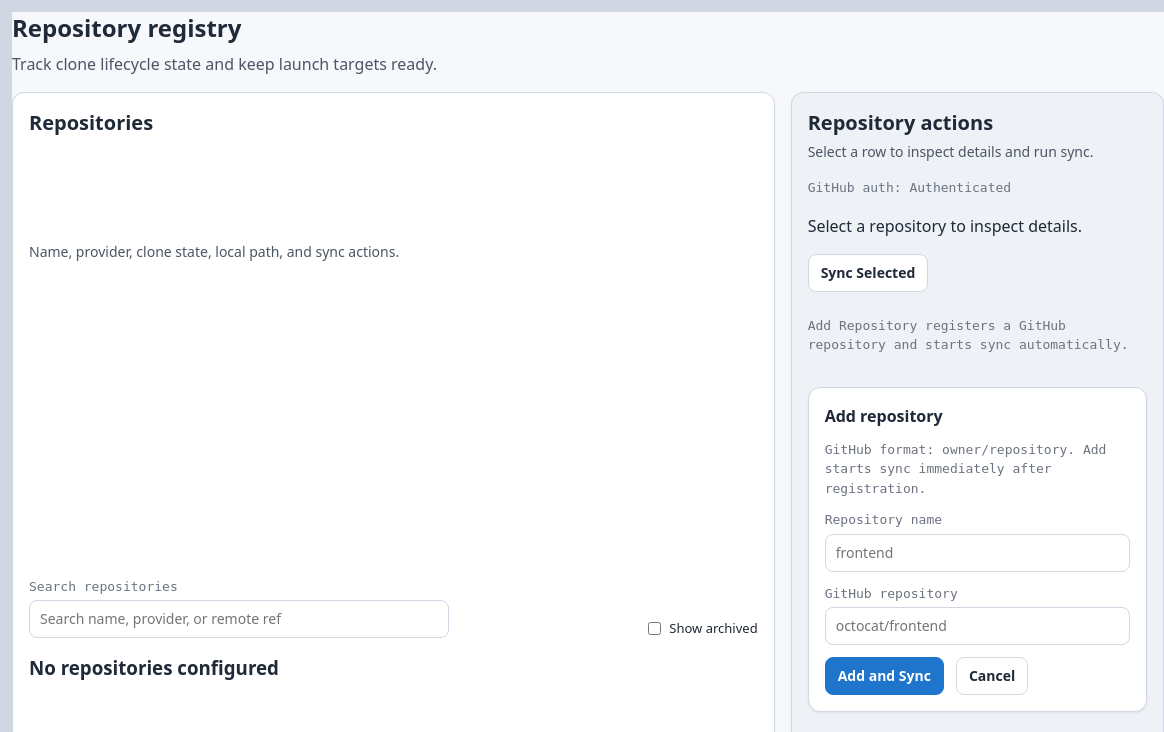
RepositoriesPage › keeps add form visible and surfaces errors when add repository fails
The width and height of the screenshot is (1164, 732).
Type "new-repo" into the field labelled "Repository name". click: (977, 552)
box: 825,534 -> 1130,572
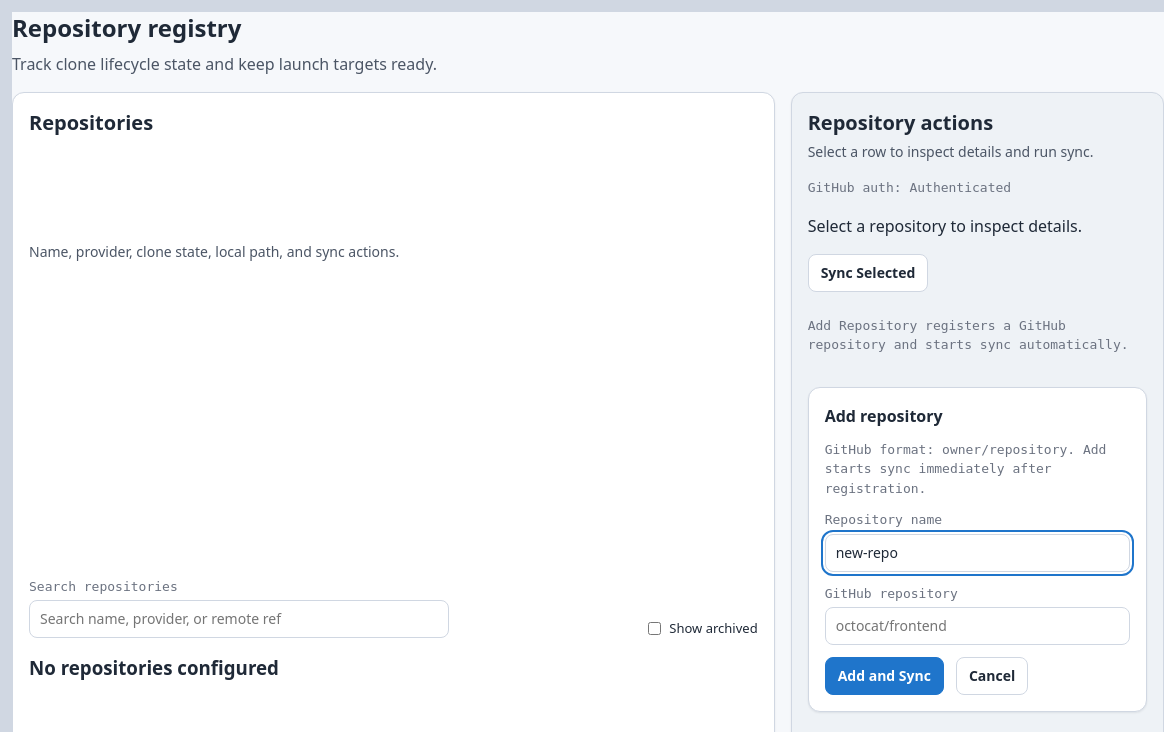
Type "octocat/new-repo" into the field labelled "GitHub repository". click: (977, 626)
box: 825,607 -> 1130,645
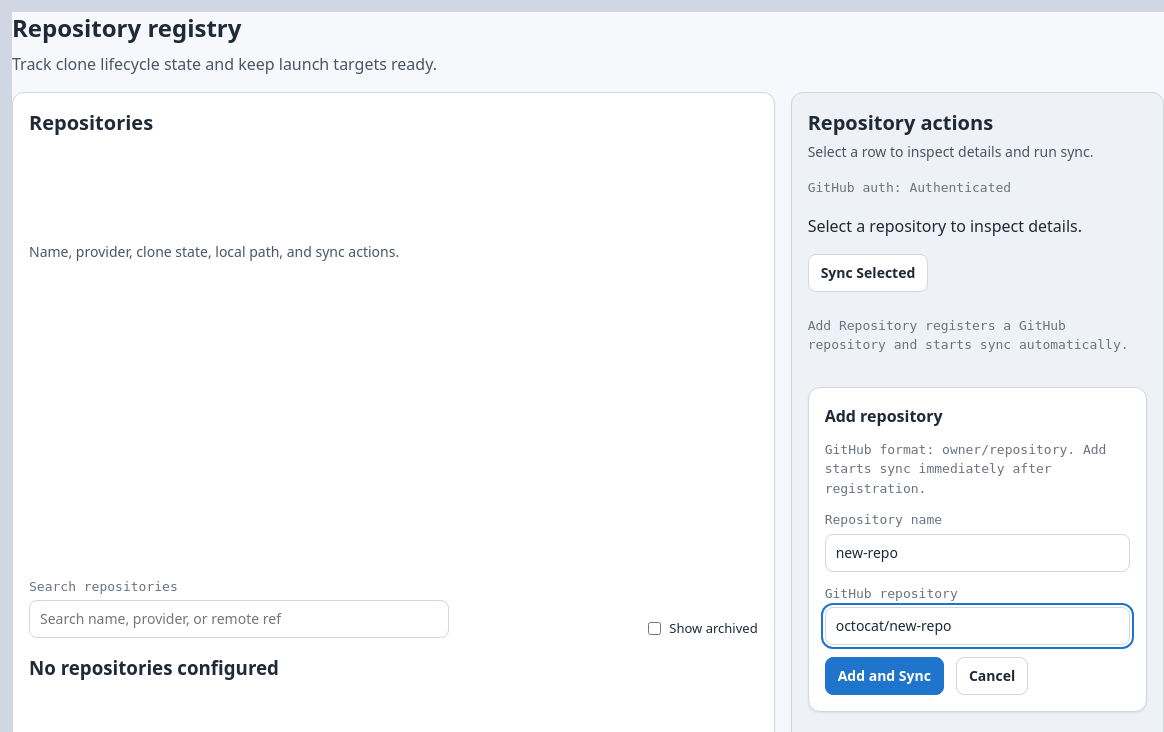
Click the button "Add and Sync". click: click(884, 676)
box: 825,657 -> 944,695
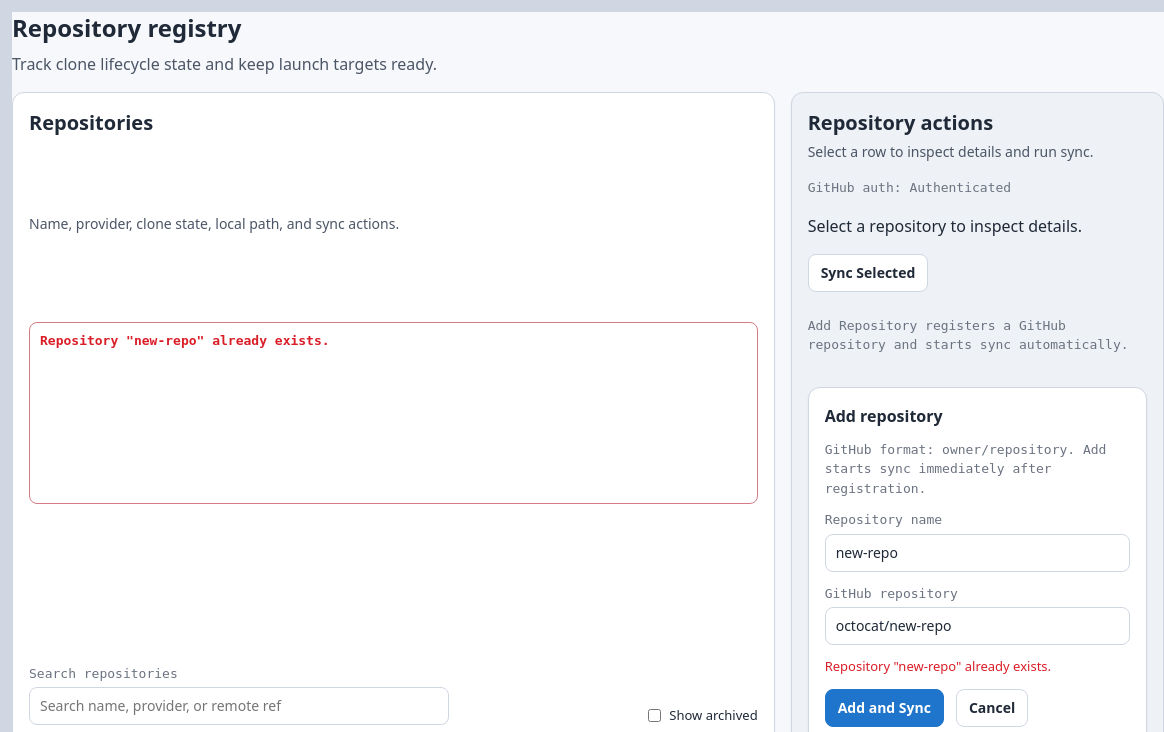
Expected: the button "Add and Sync" is shown, 825,688 -> 944,726
Expected: the message reads "Repository \"new-repo\" already exists.", 40,333 -> 330,348
Expected: the text "Repository \"new-repo\" already exists." is shown 2 times, 29,322 -> 758,504; 825,657 -> 1051,675
